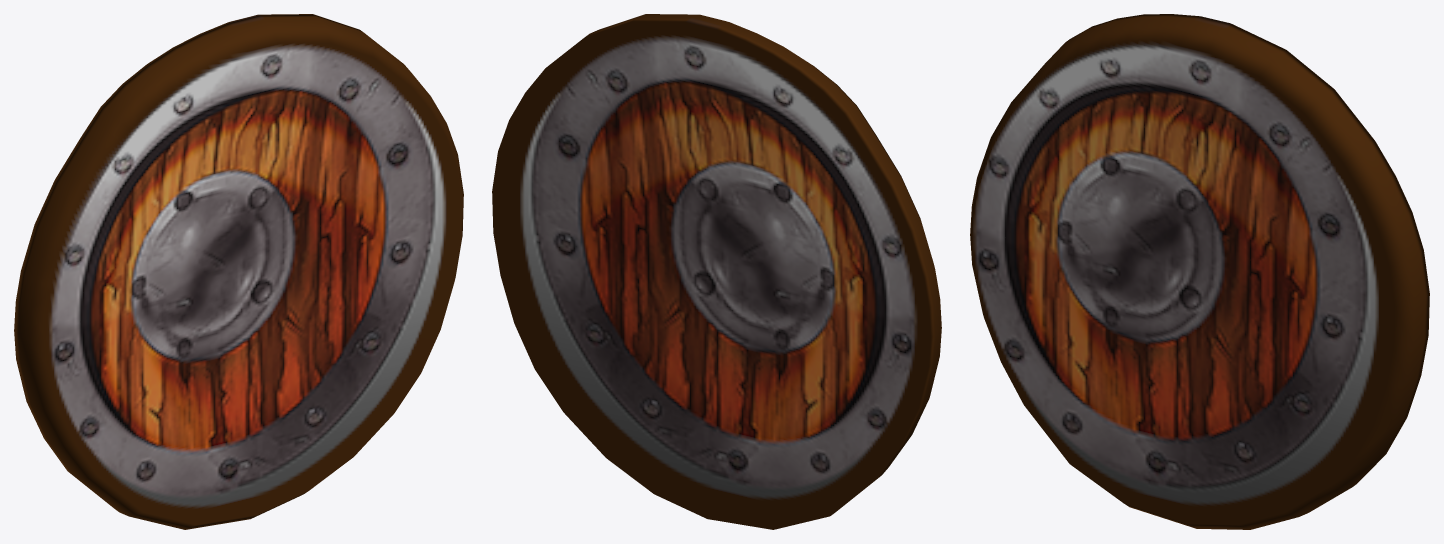
File: 3D_Shield.fbx
3 views of the same model, side by side, from view 1: azimuth 30°, elevation 25°; view 2: azimuth 150°, elevation 25°; view 3: azimuth 330°, elevation 25° (orthographic). The views are drawn at different scales.
Parts seen in each view (by area): view 1: Icon2; view 2: Icon2; view 3: Icon2.
Part boxes in pixels (x1,y1,x2,y2): Icon2: [14, 14, 463, 529]; Icon2: [492, 14, 941, 529]; Icon2: [970, 14, 1429, 529].
Bounding box in the file's own units: 8.09 × 8.67 × 0.6886.
